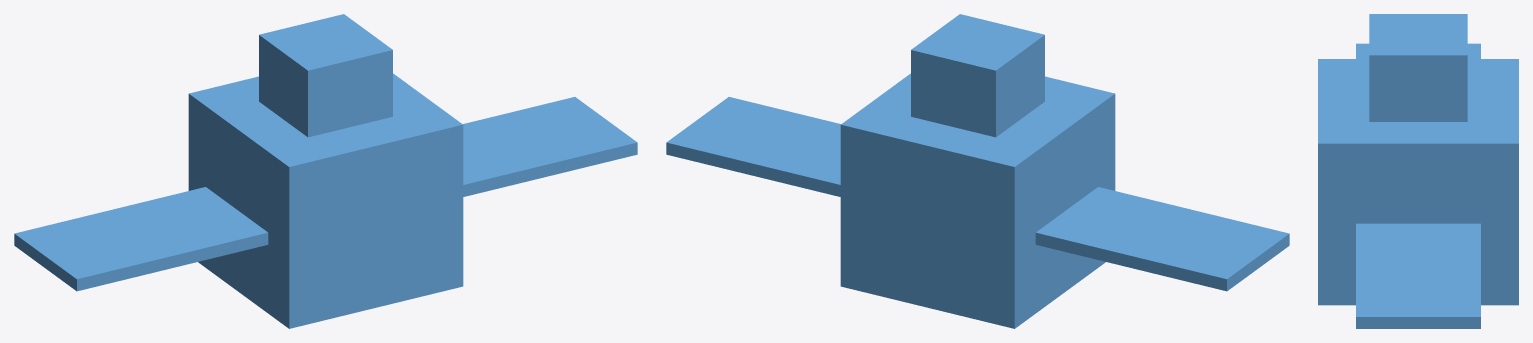
File: earth.glb
The picture shows the model from 3 angles, left to right: view 1: azimuth 30°, elevation 25°; view 2: azimuth 150°, elevation 25°; view 3: azimuth 270°, elevation 25°; orthographic projection.
Parts seen in each view (by area): view 1: earth-node; view 2: earth-node; view 3: earth-node.
Part boxes in pixels (box(x1,y1,x2,y2)): earth-node: box(14, 14, 637, 328); earth-node: box(666, 14, 1289, 328); earth-node: box(1318, 14, 1518, 328).
Size of the model in its own units: 2.9 by 1.13 by 0.9.
